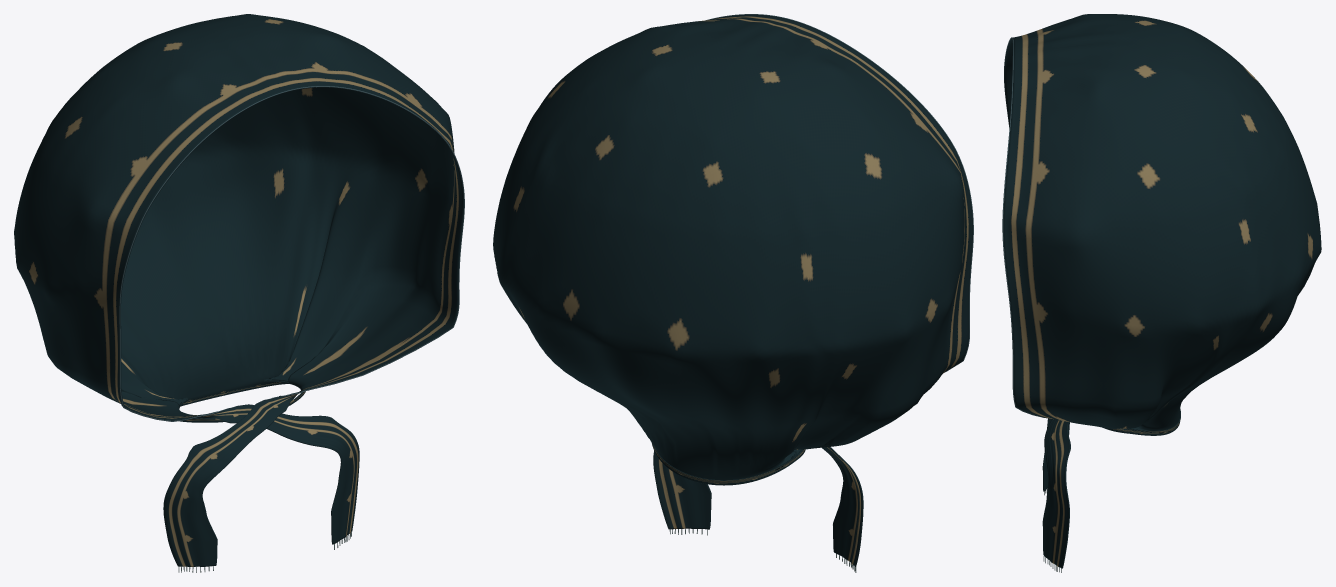
The model's file is Masculine-locs-tshirt-pashmina249-headgear.glb.
3 views of the same model, side by side, from view 1: azimuth 30°, elevation 25°; view 2: azimuth 150°, elevation 25°; view 3: azimuth 270°, elevation 25° (orthographic). The views are drawn at different scales.
Visible parts, largest first — view 1: 226 headgear / Headwear / continuous woven pashmina239, 226 headgear / Headwear / face edge239; view 2: 226 headgear / Headwear / continuous woven pashmina239, 226 headgear / Headwear / face edge239; view 3: 226 headgear / Headwear / continuous woven pashmina239, 226 headgear / Headwear / face edge239.
Part boxes in pixels (x1,y1,x2,y2): 226 headgear / Headwear / continuous woven pashmina239: (14, 14, 463, 566); 226 headgear / Headwear / face edge239: (119, 86, 464, 421); 226 headgear / Headwear / continuous woven pashmina239: (493, 14, 972, 566); 226 headgear / Headwear / face edge239: (706, 14, 973, 372); 226 headgear / Headwear / continuous woven pashmina239: (1003, 14, 1321, 568); 226 headgear / Headwear / face edge239: (1002, 37, 1047, 418).
Bounding box in the file's own units: 1.15 × 1.4 × 0.8232.
3 materials, 1 textured.
